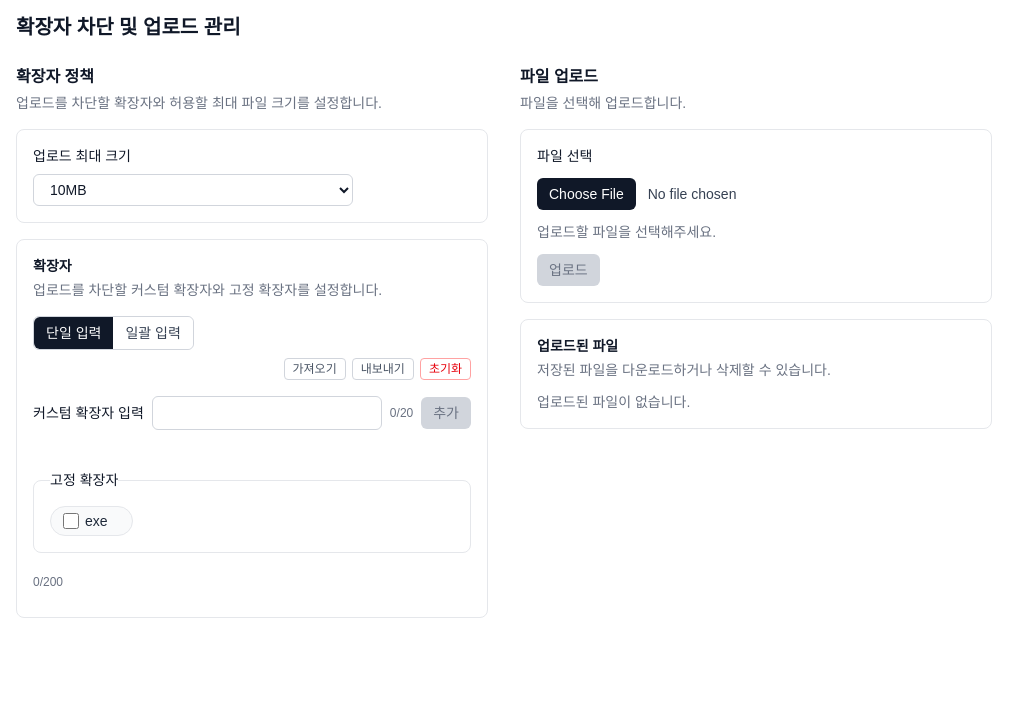
Test: 메인 화면 › 일괄 입력 모드로 전환하면 단일 입력이 사라지고 일괄 입력 영역과 extignore.txt 버튼이 나타난다
Expected: the field labelled "커스텀 확장자 입력" is shown, [152, 396, 382, 430]
Step 1. Click the radio button labelled "일괄 입력" → point(153, 333), box [113, 317, 193, 349]
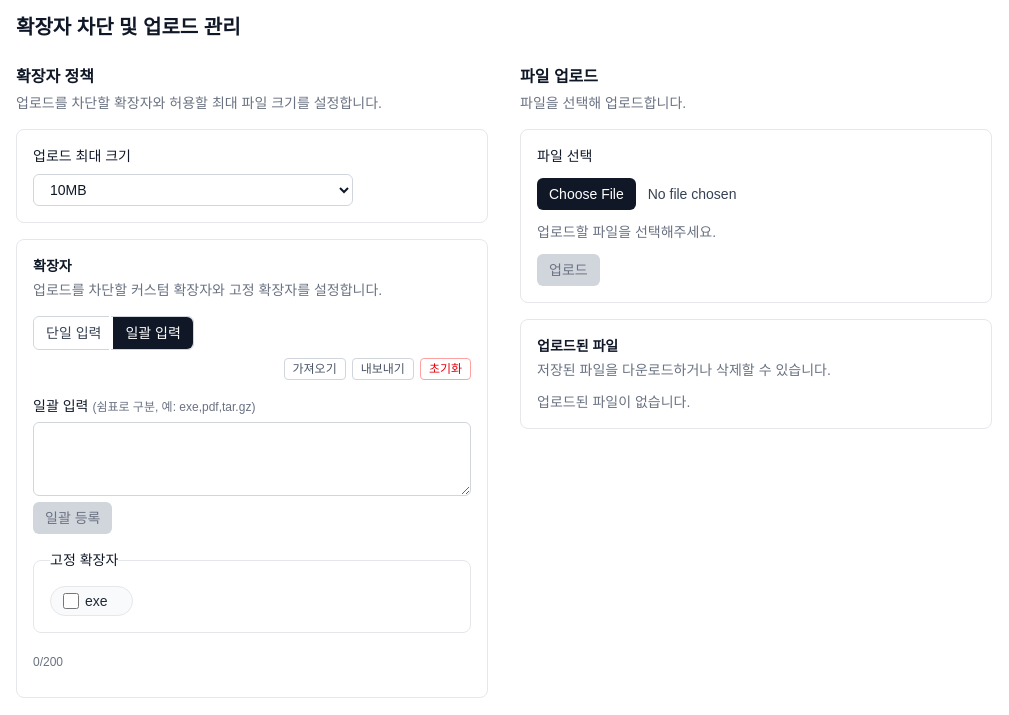
Expected: the button with aria-label "extignore.txt 내보내기" is shown, [352, 358, 414, 380]
Now the label labelled "커스텀 확장자 입력" is gone
Now the text box labelled "일괄 입력(쉼표로 구분, 예: exe,pdf,tar.gz)" is shown, box [33, 422, 471, 496]
